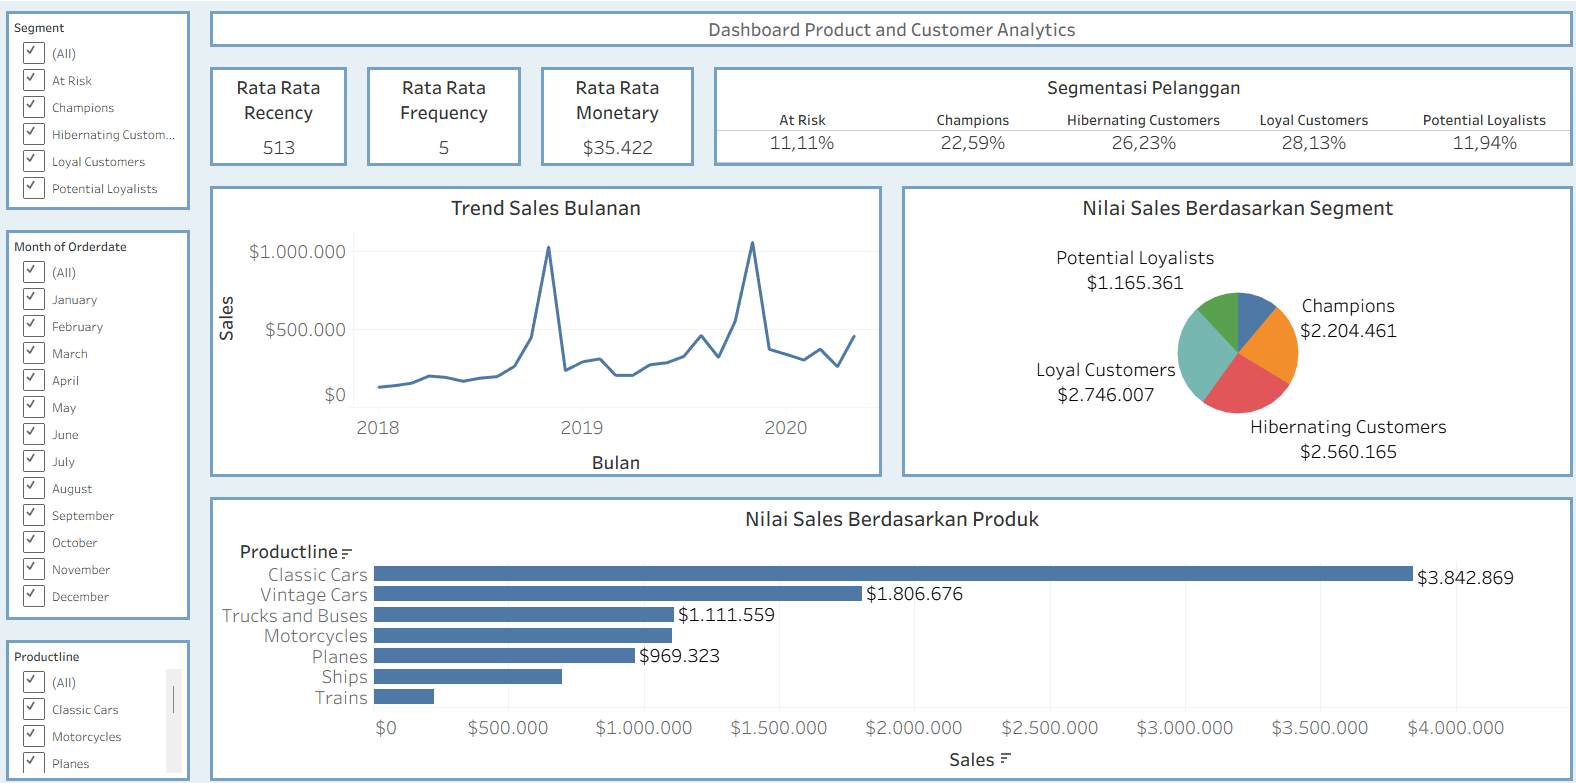

Layout of this report page (visuals, bound fields, positions):
{"tool":"tableau","page":{"name":"Dashboard 1","canvas":[1000,1000],"units":"permille","ordinal":0},"visuals":[{"type":"filter","title":"product sales","param":"[federated.1lz57ic1rlxc121b0ii480n5nyqt].[none:segment:nk]","box":[5,9.9,127.2,271.7]},{"type":"text","box":[132.2,9.9,862.8,69.5]},{"type":"worksheet","title":"R","mark":"Automatic","box":[132.2,79.4,97.8,147.7]},{"type":"worksheet","title":"F","mark":"Automatic","box":[230,79.4,108.7,147.7]},{"type":"worksheet","title":"M","mark":"Automatic","box":[338.6,79.4,107.6,147.7]},{"type":"worksheet","title":"segment","mark":"Automatic","cols":["segment"],"box":[446.2,79.4,548.8,147.7]},{"type":"worksheet","title":"trend month","mark":"Automatic","rows":["SALES"],"cols":["ORDERDATE"],"box":[132.2,227.1,431.4,385.9]},{"type":"worksheet","title":"segment sales","mark":"Pie","box":[563.6,227.1,431.4,385.9]},{"type":"filter","title":"product sales","param":"[federated.1lz57ic1rlxc121b0ii480n5nyqt].[mn:ORDERDATE:ok]","box":[5,281.6,127.2,508.7]},{"type":"worksheet","title":"product sales","mark":"Automatic","rows":["PRODUCTLINE"],"cols":["SALES"],"box":[132.2,612.9,862.8,377.2]},{"type":"filter","title":"product sales","param":"[federated.1lz57ic1rlxc121b0ii480n5nyqt].[none:PRODUCTLINE:nk]","box":[5,790.3,127.2,199.8]}]}

Visuals, with their boxes on the dashboard's canvas, which has no fixed pixel size, in thousandths of its width and height (x1, y1, x2, y2). These are canvas units, not pixel positions in the 1576x783 screenshot, which may show the page scaled, cropped or inside an application window:
"product sales" filter: (x1=5, y1=10, x2=132, y2=282)
text: (x1=132, y1=10, x2=995, y2=79)
"R" worksheet: (x1=132, y1=79, x2=230, y2=227)
"F" worksheet: (x1=230, y1=79, x2=339, y2=227)
"M" worksheet: (x1=339, y1=79, x2=446, y2=227)
"segment" worksheet: (x1=446, y1=79, x2=995, y2=227)
"trend month" worksheet: (x1=132, y1=227, x2=564, y2=613)
"segment sales" worksheet (Pie marks): (x1=564, y1=227, x2=995, y2=613)
"product sales" filter: (x1=5, y1=282, x2=132, y2=790)
"product sales" worksheet: (x1=132, y1=613, x2=995, y2=990)
"product sales" filter: (x1=5, y1=790, x2=132, y2=990)
